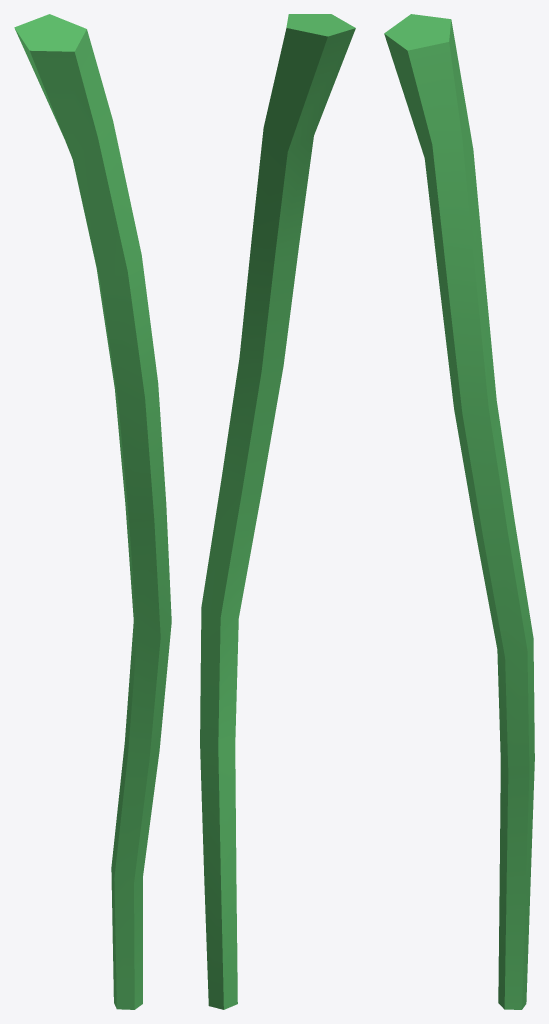
The model's file is roots_solo_B_C.fbx.
The picture shows the model from 3 angles, left to right: view 1: azimuth 30°, elevation 25°; view 2: azimuth 150°, elevation 25°; view 3: azimuth 330°, elevation 25°; orthographic projection. The views are drawn at different scales.
Parts seen in each view (by area): view 1: roots_solo_B_C; view 2: roots_solo_B_C; view 3: roots_solo_B_C.
Part boxes in pixels (<box>): roots_solo_B_C: <box>14,14,171,1009</box>; roots_solo_B_C: <box>200,14,355,1009</box>; roots_solo_B_C: <box>384,14,534,1009</box>.
Size of the model in its own units: 24.74 by 163 by 12.96.
